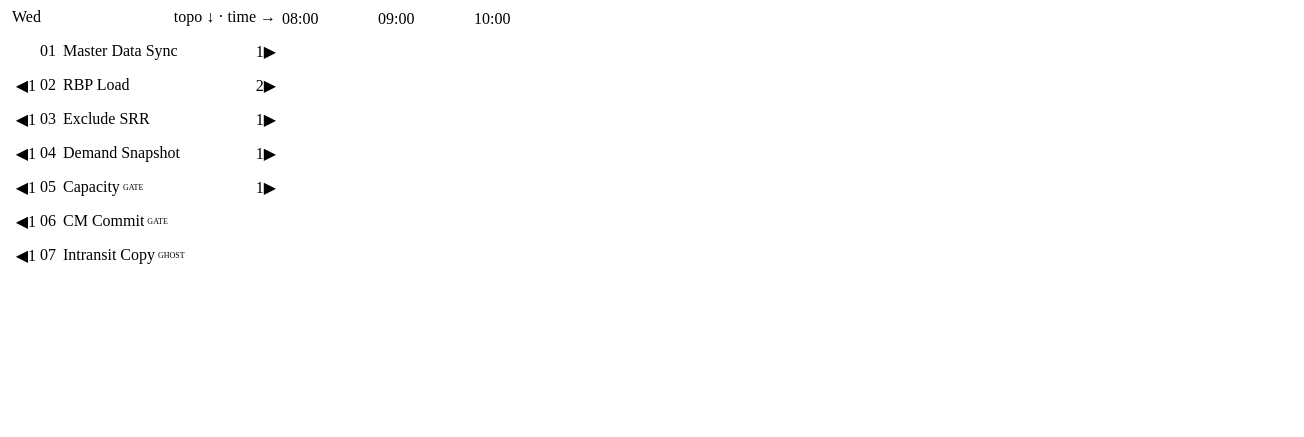
Test: CascadeTimeline › walks the chain when an ego-graph chip is clicked
Click the button "◀1 03 Exclude SRR 1▶". click: (106, 118)
box: [12,102,1292,136]
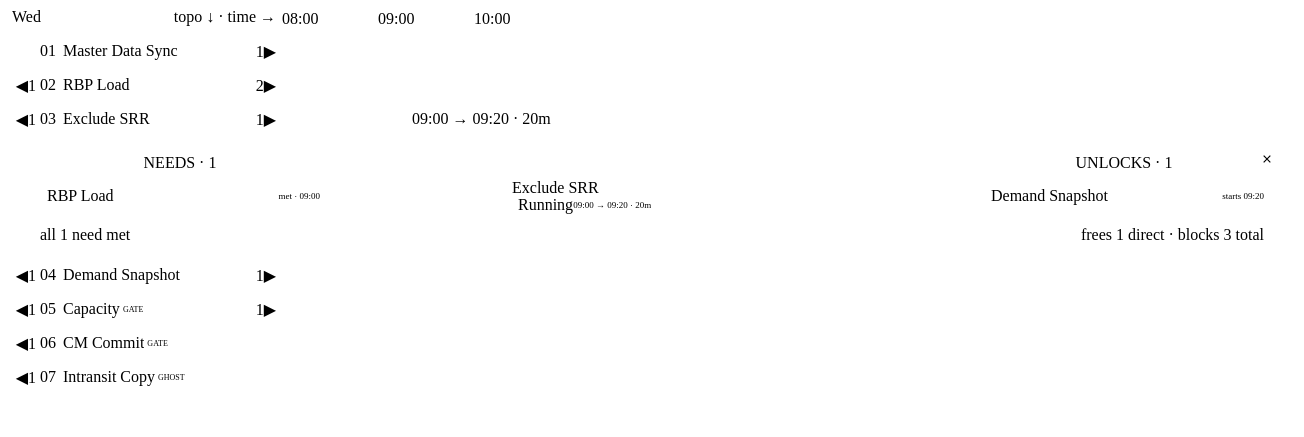
upstream chip "RBP Load" walks selection to rbp
Click the button "RBP Load met · 09:00". click: (80, 196)
box: [40,182,320,210]
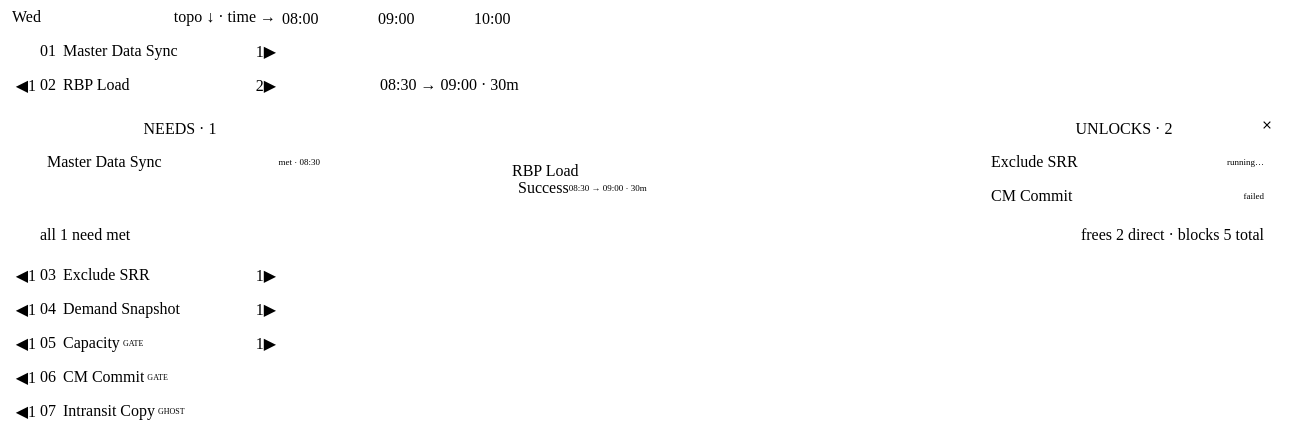
Expected: the element named "Dependencies for RBP Load" is shown, [12,102,1292,258]
